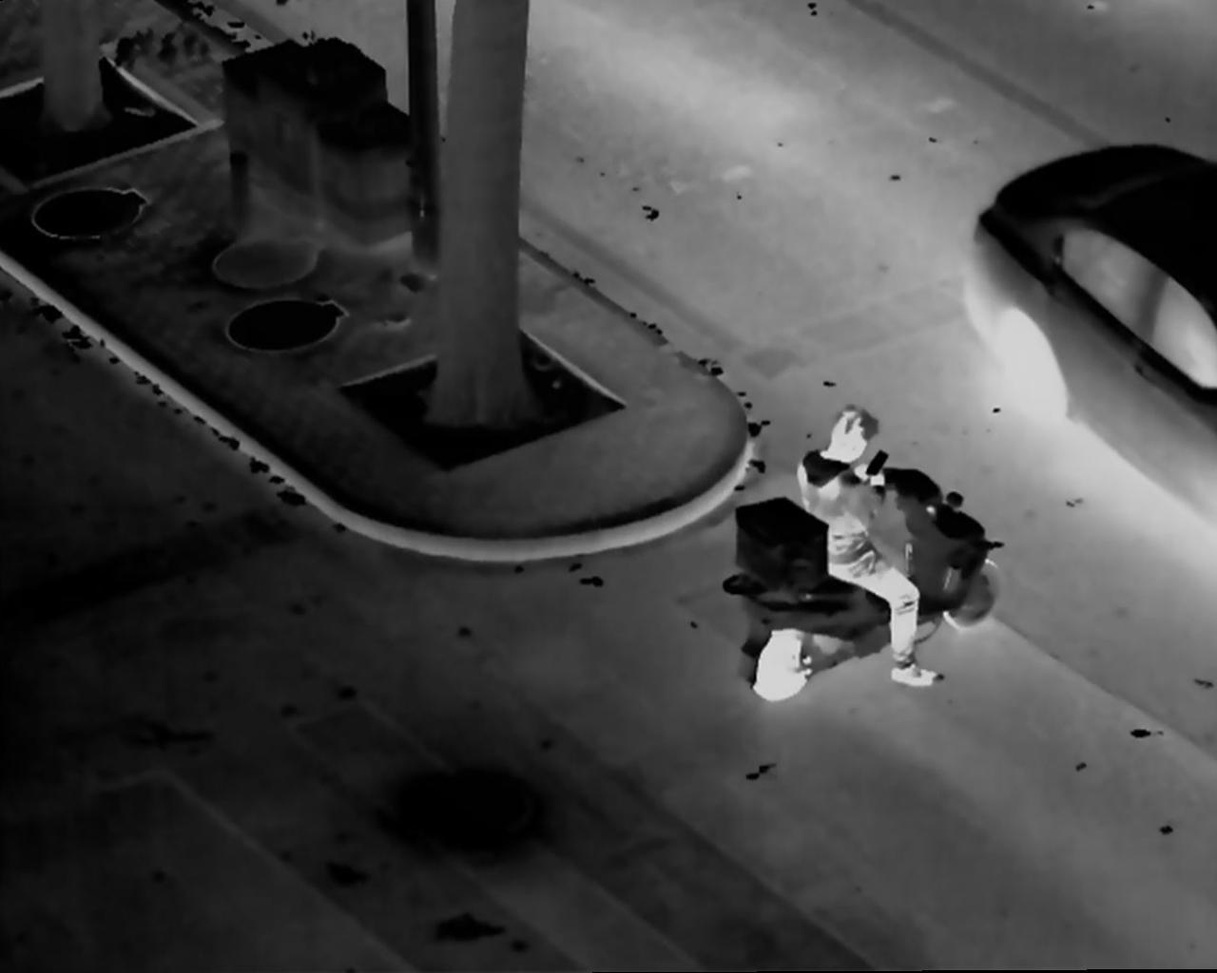person: (793, 403, 949, 696)
